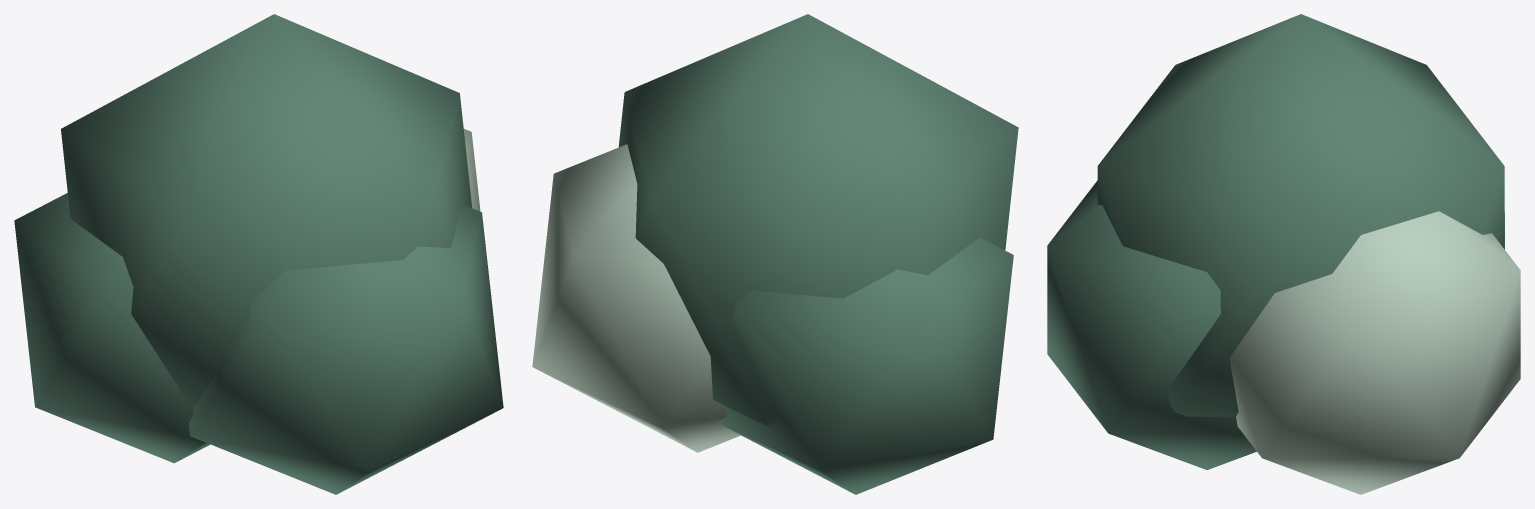
Rendered from round-bush-small.glb.
3 renders of one model, left to right at view 1: azimuth 30°, elevation 25°; view 2: azimuth 150°, elevation 25°; view 3: azimuth 270°, elevation 25°, orthographic.
Parts seen in each view (by area): view 1: round-bush-small; view 2: round-bush-small; view 3: round-bush-small.
Part boxes in pixels (x1,y1,x2,y2): round-bush-small: (14, 14, 503, 494); round-bush-small: (532, 14, 1018, 494); round-bush-small: (1047, 14, 1520, 494).
Size of the model in its own units: 0.5946 by 0.58 by 0.5543.
